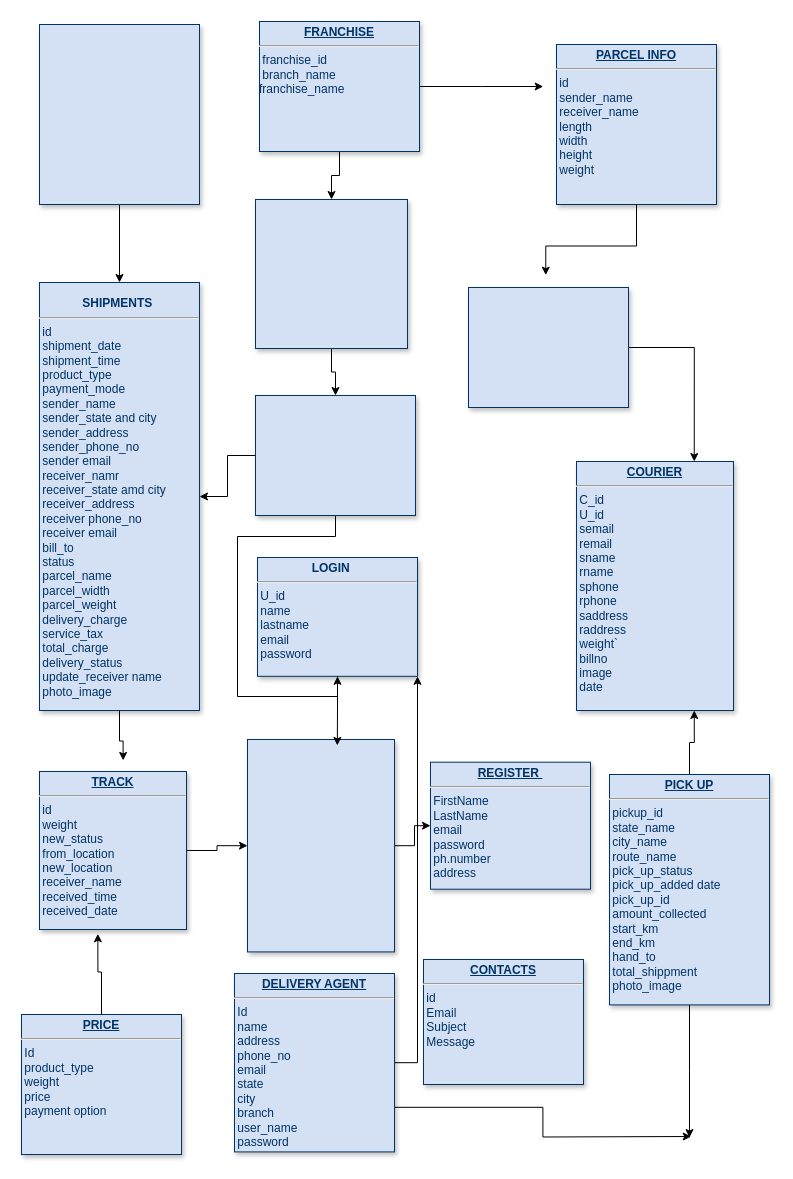
The diagram is 793 pixels wide and 1179 high, and some of its shapes have lost their labels. The centre of each missing label's shape, as x and y in pixels:
"ADMIN a_id Name LastName Email Password Phone_no" belongs at point (332, 275).
"HUB id hub_name address ph_no state city email branch password" belongs at point (120, 116).
"PRODUCT_TYPE id name weight height width" belongs at point (549, 348).
"STAFF id name address phone email password" belongs at point (336, 456).
"USER id name state city address phone_no email password id card" belongs at point (321, 846).
